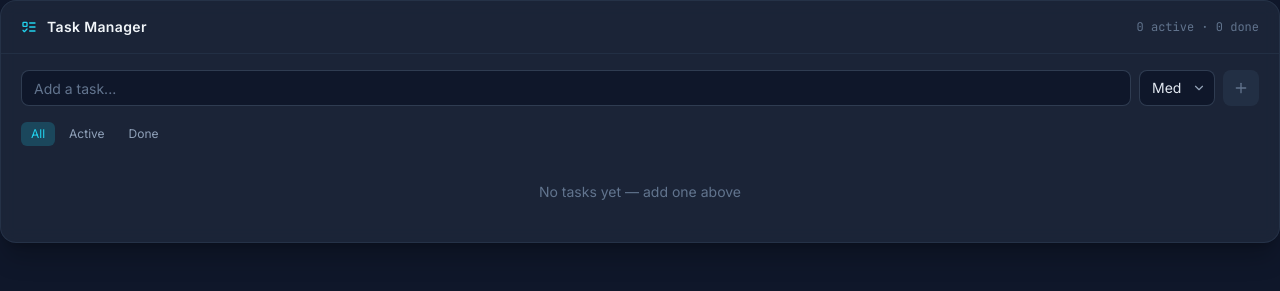
Scenario: TasksWidget security › shows hint when submitting empty task
Click the button named "Add task".
click(1241, 88)  # box x1=1223 y1=70 x2=1259 y2=106
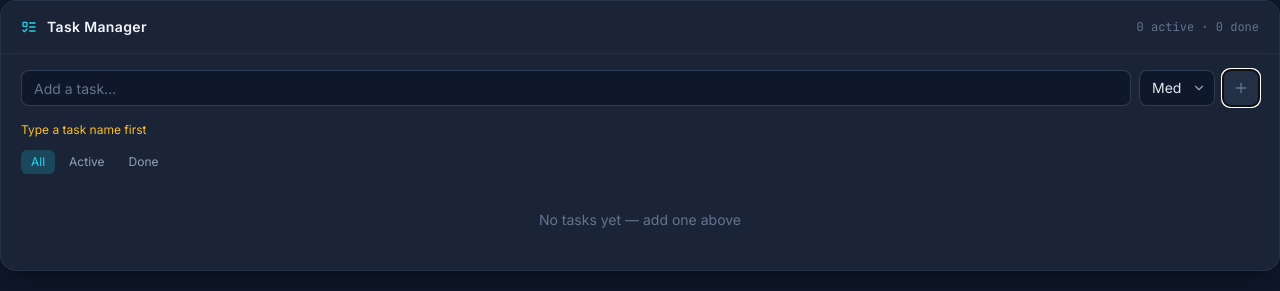
Result: the text "Type a task name first" is shown at x1=21 y1=122 x2=146 y2=137
